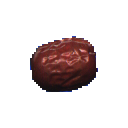gd: (22, 18, 115, 113)
